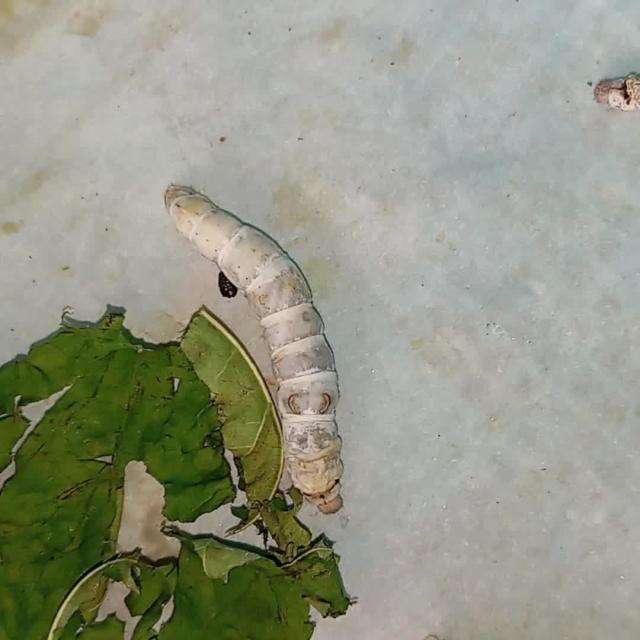Grasserie: (126, 140, 403, 534)
